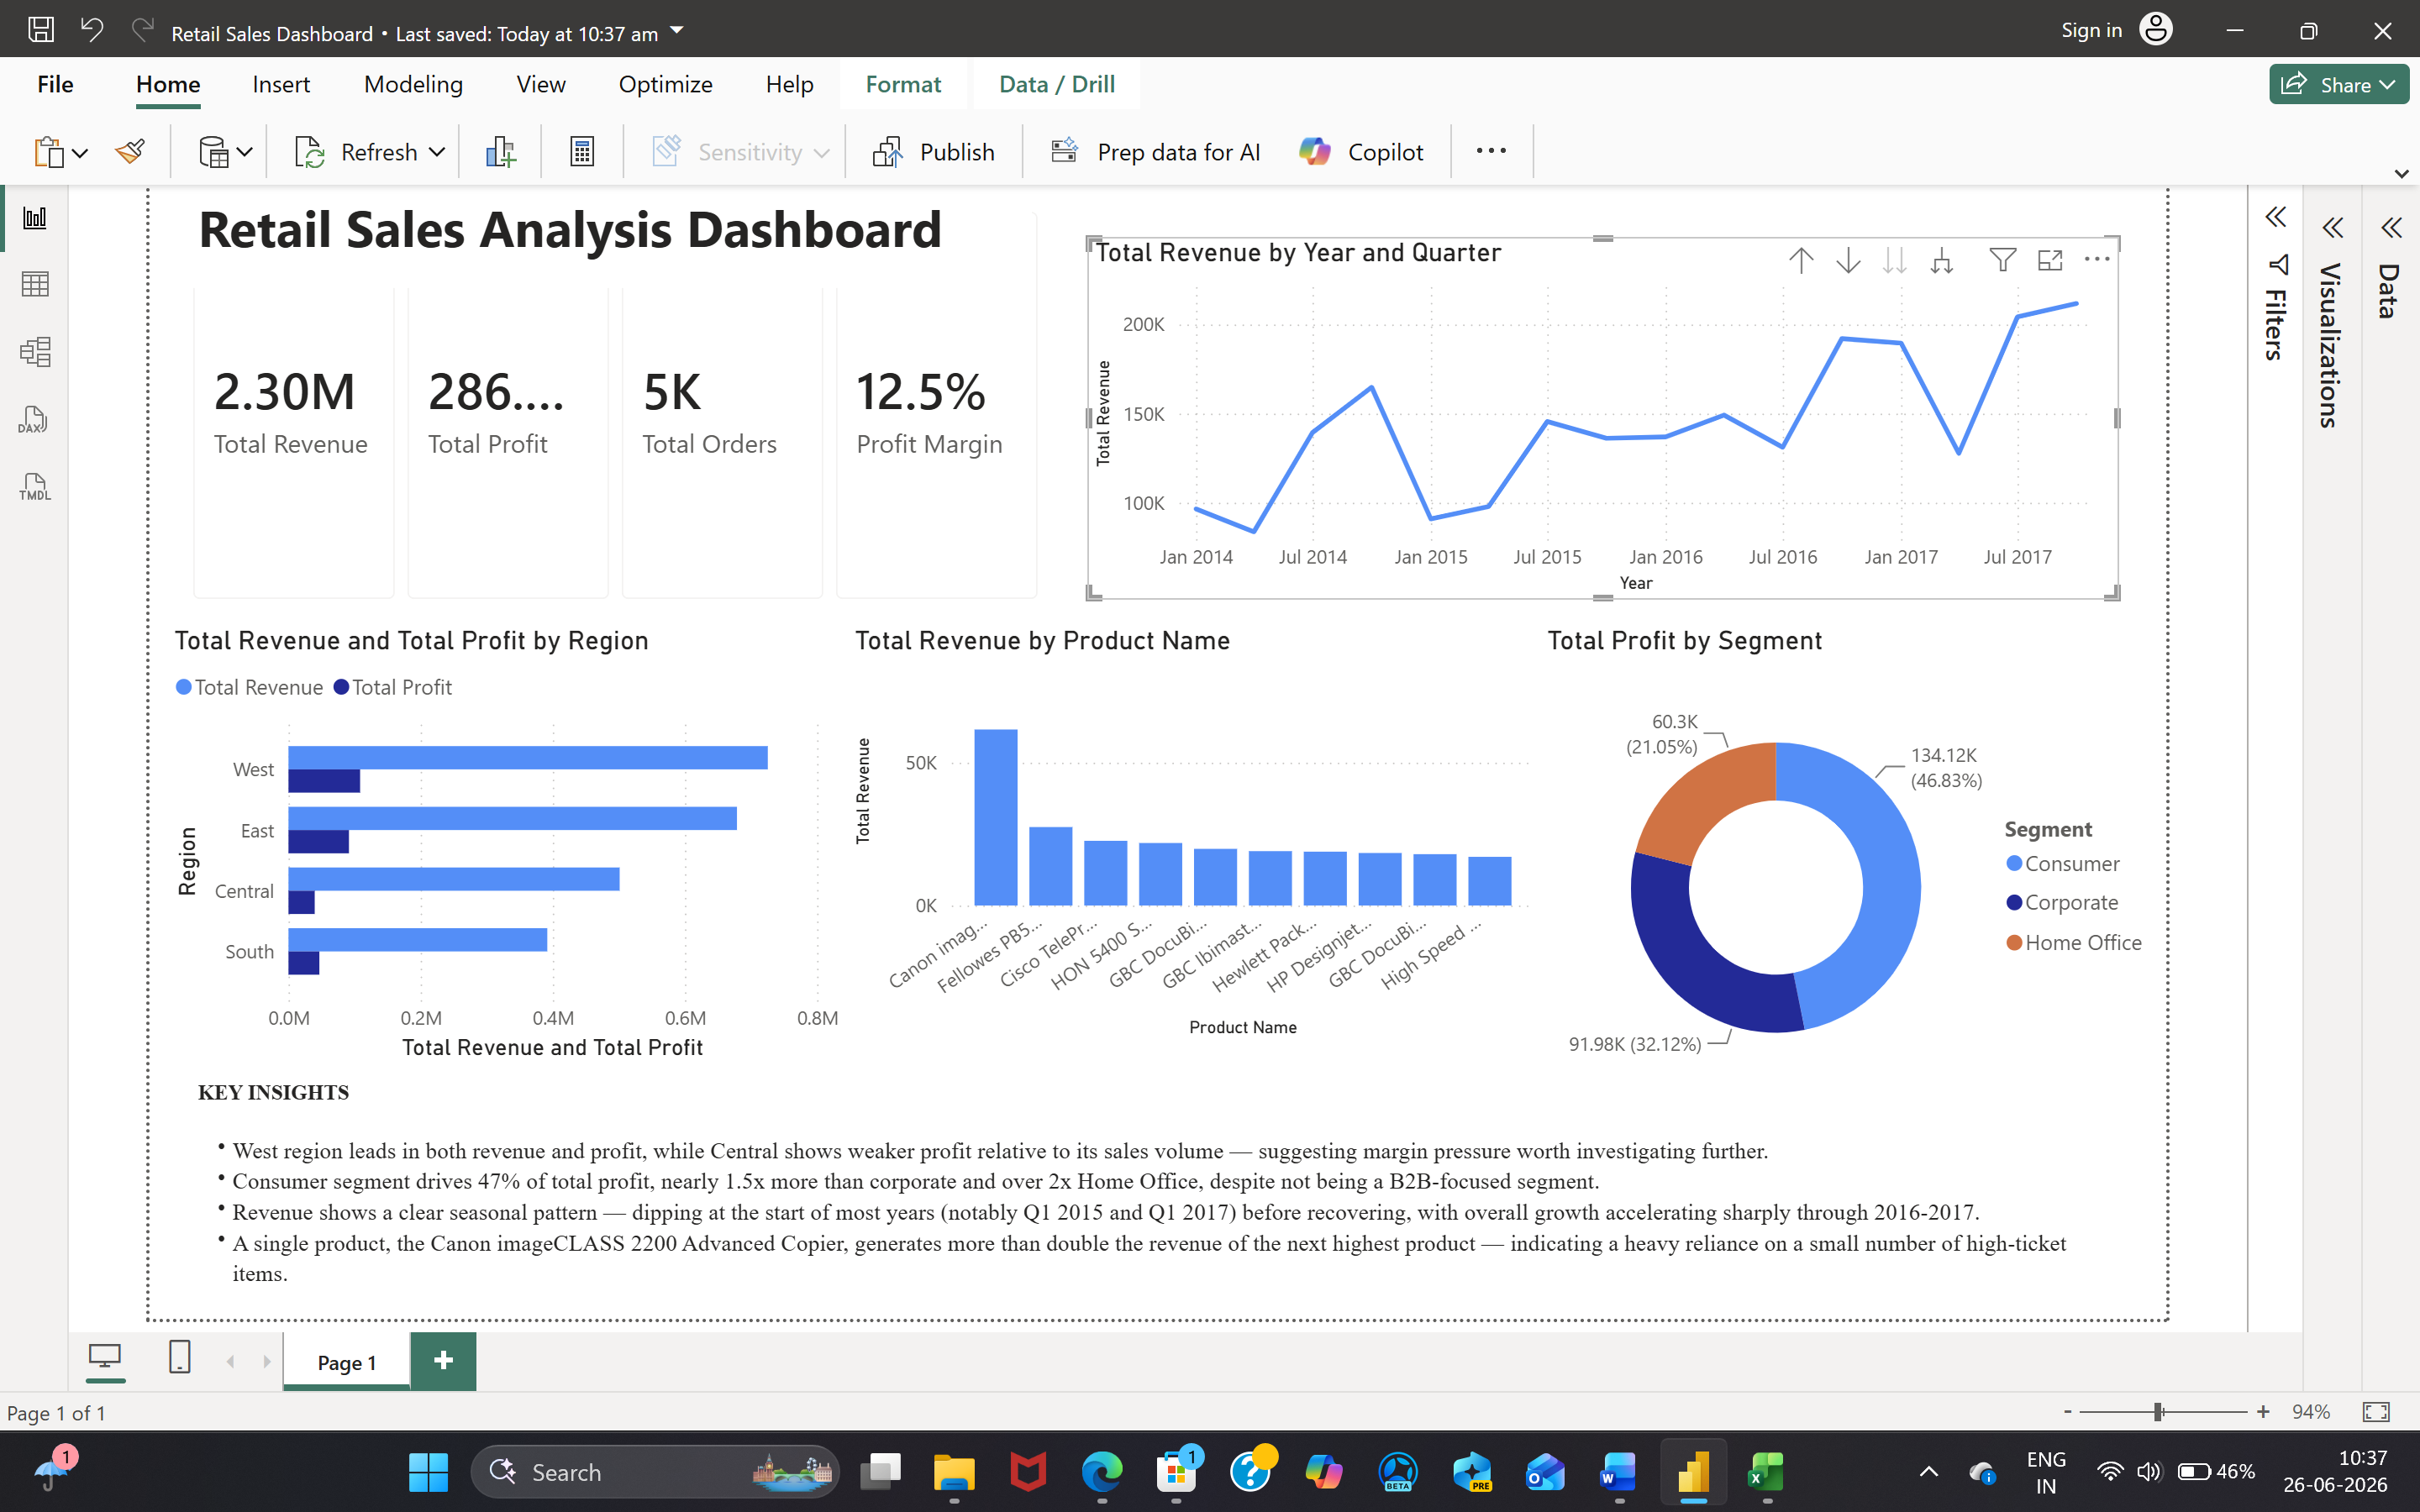

The dashboard page shown, as its layout file describes it:
{"tool":"powerbi","page":{"name":"Page 1","canvas":[1280,720],"ordinal":0},"visuals":[{"type":"cardVisual","fields":{"Data":["Sample - Superstore (original).Total Revenue","Sample - Superstore (original).Total Profit","Sample - Superstore (original).Total Orders","Sample - Superstore (original).Profit Margin"]},"box":[10.2,0,572.4,280.5],"z":0},{"type":"lineChart","fields":{"Category":["Sample - Superstore (original).Order Date.Variation.Date Hierarchy.Year","Sample - Superstore (original).Order Date.Variation.Date Hierarchy.Quarter","Sample - Superstore (original).Order Date.Variation.Date Hierarchy.Month"],"Y":["Sample - Superstore (original).Total Revenue"]},"box":[595.2,33.1,654.9,230.4],"z":1000},{"type":"clusteredColumnChart","fields":{"Category":["Sample - Superstore (original).Product Name"],"Y":["Sample - Superstore (original).Total Revenue"]},"box":[442.4,279.9,441.2,266.1],"z":2000},{"type":"clusteredBarChart","fields":{"Category":["Sample - Superstore (original).Region"],"Y":["Sample - Superstore (original).Total Revenue","Sample - Superstore (original).Total Profit"]},"box":[10.4,279.9,432,281.1],"z":3000},{"type":"donutChart","fields":{"Category":["Sample - Superstore (original).Segment"],"Y":["Sample - Superstore (original).Total Profit"]},"box":[882.4,279.9,397.4,314.5],"z":4000},{"type":"textbox","box":[100.2,648.6,459.6,71.4],"z":5000},{"type":"textbox","box":[25.3,561,1224.6,146.3],"z":5001},{"type":"textbox","box":[25.3,0,534.5,65.7],"z":5002}]}

Visuals, with their boxes on the page's 1280x720 design canvas (x1, y1, x2, y2). These are canvas units, not pixel positions in the 2420x1512 screenshot, which may show the page scaled, cropped or inside an application window:
cardVisual - Sample - Superstore (original).Total Revenue x Sample - Superstore (original).Total Profit: bbox=[10, 0, 583, 280]
lineChart - Sample - Superstore (original).Order Date.Variation.Date Hierarchy.Year x Sample - Superstore (original).Order Date.Variation.Date Hierarchy.Quarter: bbox=[595, 33, 1250, 264]
clusteredColumnChart - Sample - Superstore (original).Product Name x Sample - Superstore (original).Total Revenue: bbox=[442, 280, 884, 546]
clusteredBarChart - Sample - Superstore (original).Region x Sample - Superstore (original).Total Revenue: bbox=[10, 280, 442, 561]
donutChart - Sample - Superstore (original).Segment x Sample - Superstore (original).Total Profit: bbox=[882, 280, 1280, 594]
textbox: bbox=[100, 649, 560, 720]
textbox: bbox=[25, 561, 1250, 707]
textbox: bbox=[25, 0, 560, 66]
